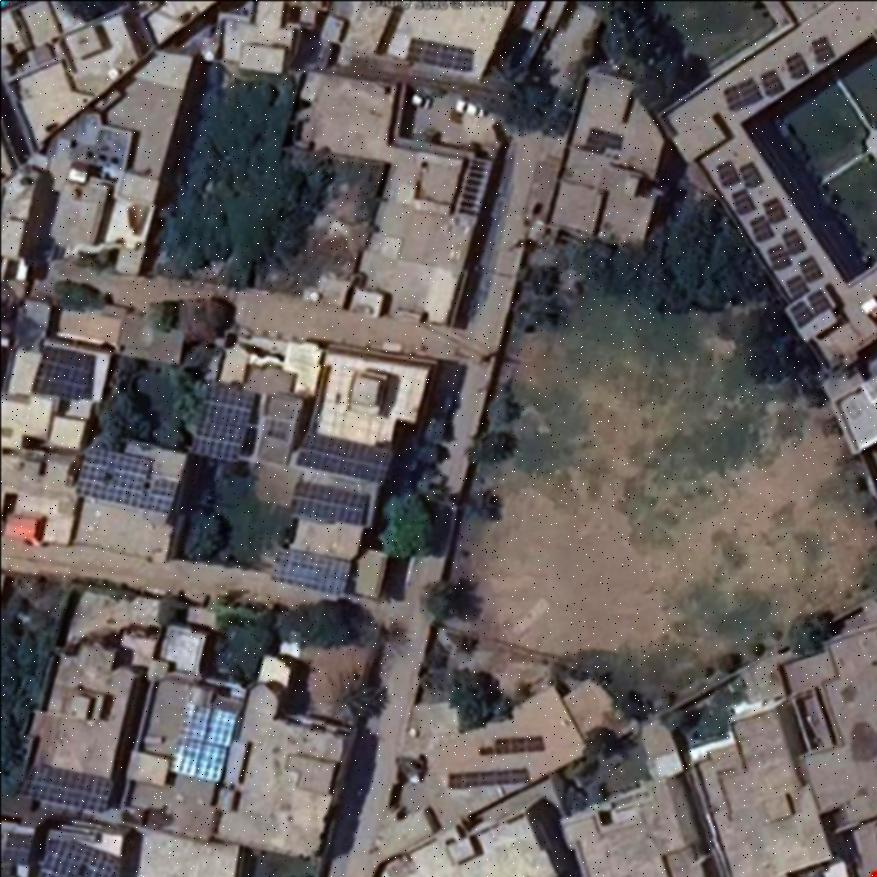Solarpanel: (76, 445, 185, 516), (168, 702, 236, 785), (189, 384, 257, 460), (17, 764, 111, 814), (297, 434, 394, 481), (271, 549, 351, 595), (33, 836, 120, 877), (288, 482, 367, 525), (31, 346, 90, 399), (405, 37, 472, 72), (448, 769, 529, 788), (724, 80, 761, 112), (497, 738, 543, 755), (587, 129, 622, 148), (789, 301, 812, 326), (786, 52, 806, 80), (799, 257, 822, 280), (739, 161, 761, 185), (716, 161, 736, 187), (750, 218, 772, 240), (732, 192, 754, 213), (781, 232, 802, 254), (760, 70, 780, 93), (811, 39, 831, 60), (764, 200, 784, 221), (786, 277, 807, 297), (810, 293, 829, 314), (769, 247, 787, 267)
